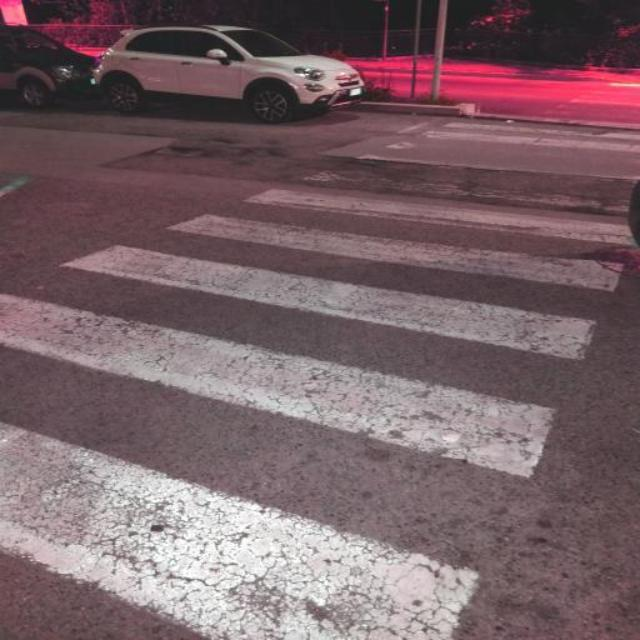sidewalk: (6, 117, 626, 638)
